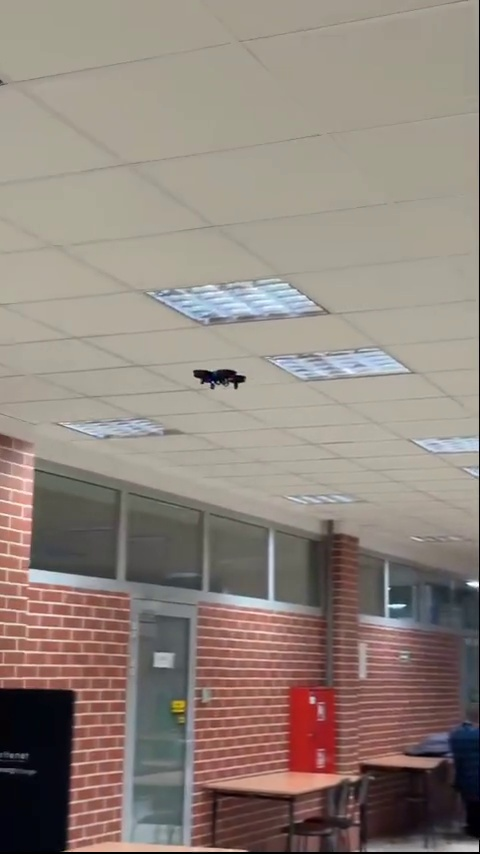drone: (193, 365, 248, 393)
